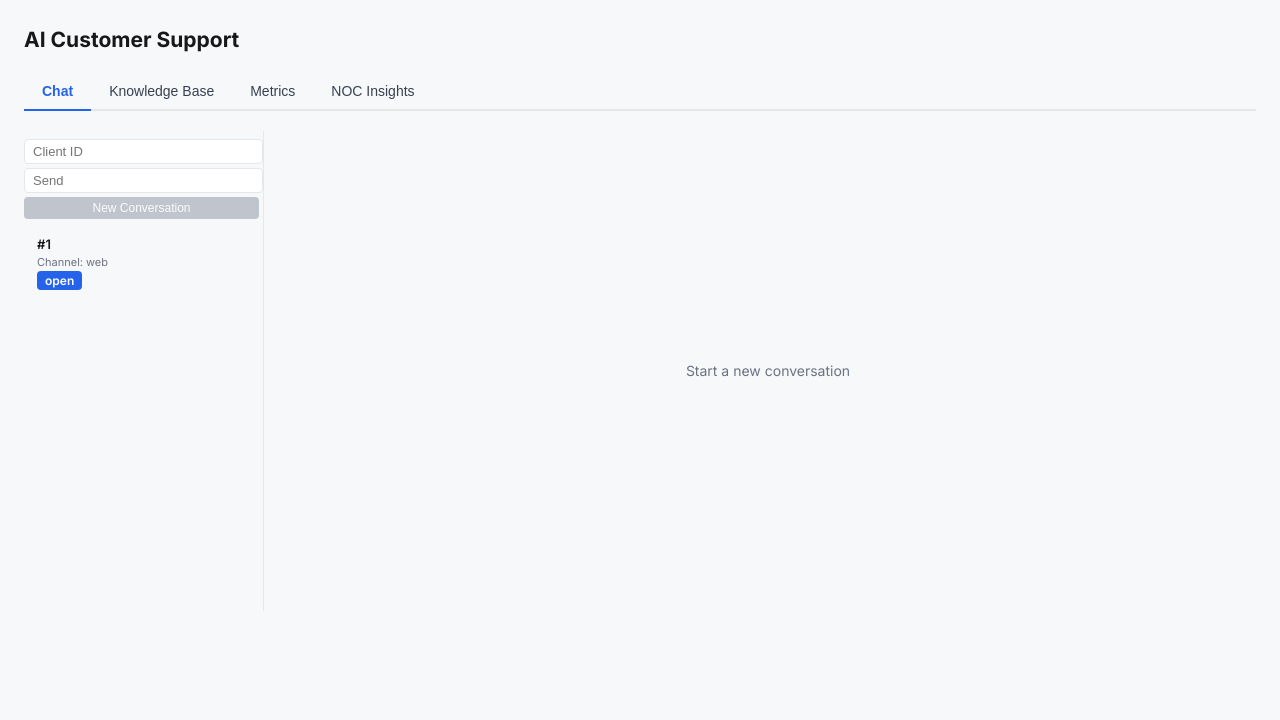
Test: AiSupportPage › clicking New Article shows create form with Title and Content fields
Click the button "Knowledge Base".
click(162, 92)  # box [91,73,232,111]
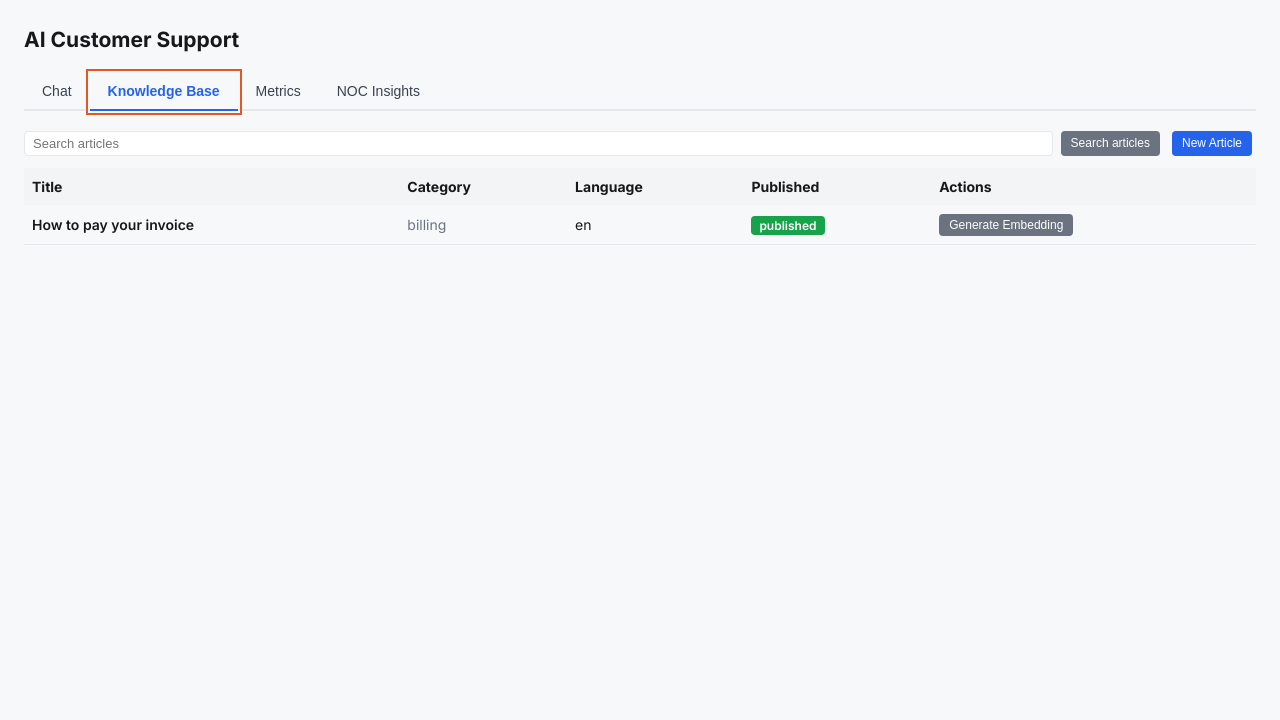
Expected: the button "New Article" is shown
Click the button "New Article".
click(1212, 143)  # box [1172,131,1252,156]
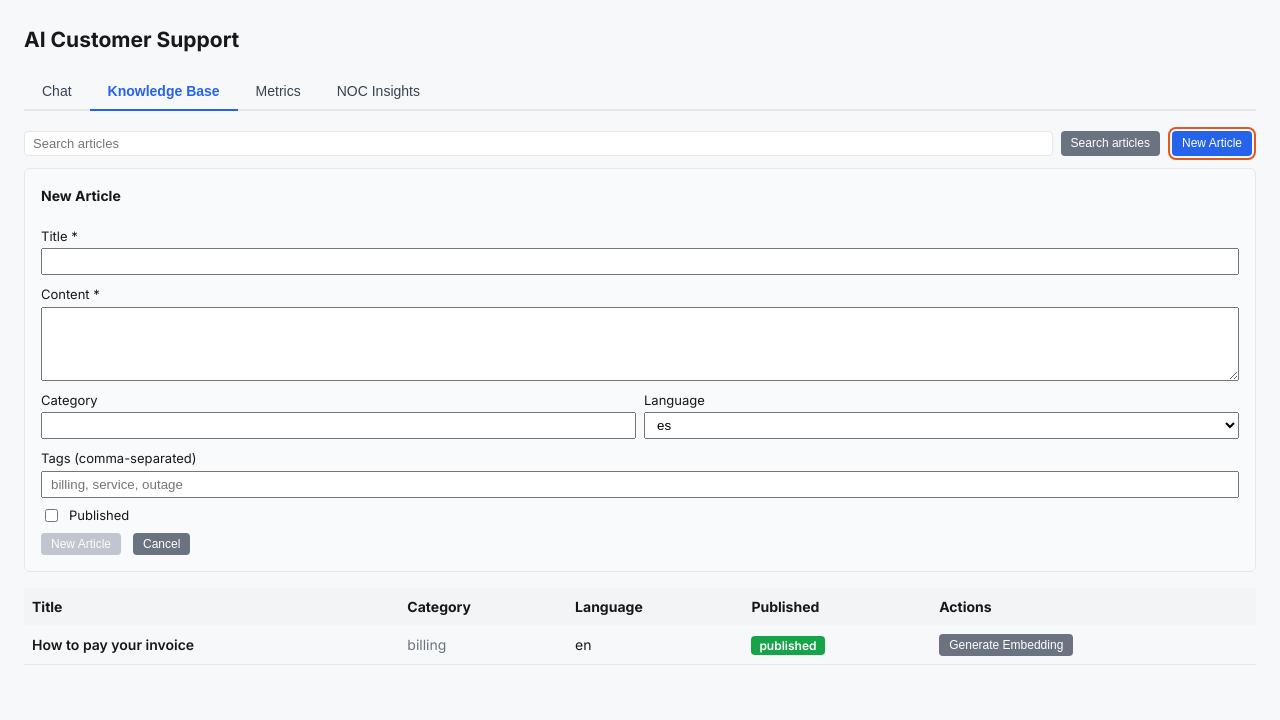
Expected: the text "Title *" is shown, [41,228,78,244]
Expected: the text "Content *" is shown, [41,286,100,302]
